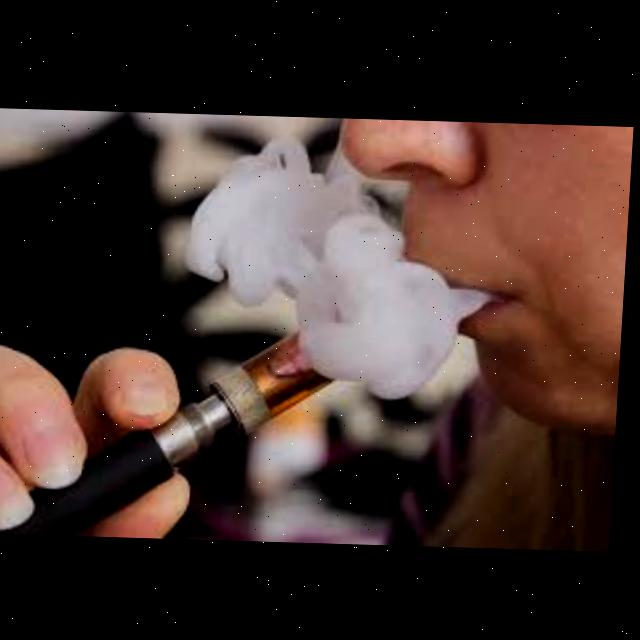vape: (6, 320, 341, 541)
